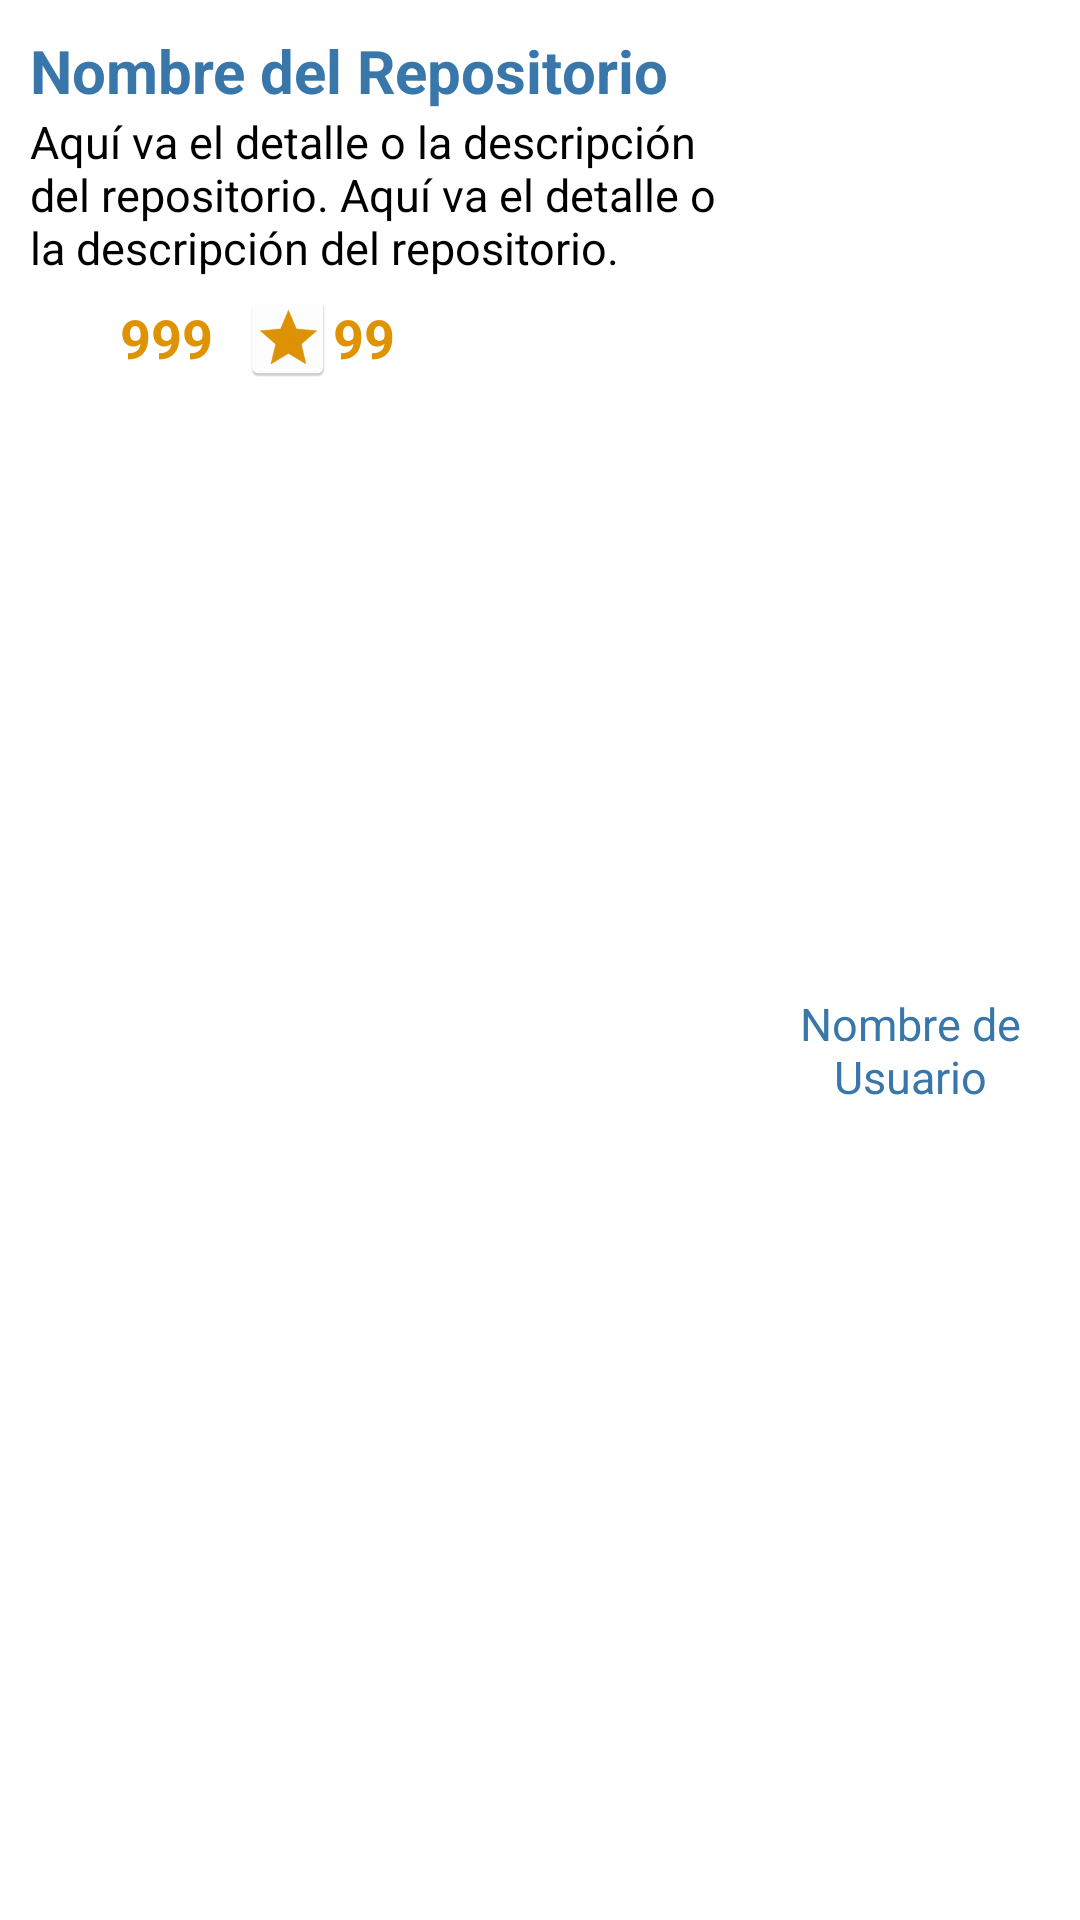

Named icons in this screenshot (1080w x 1920h) and their centers, [x,y]:
star: [288,341]
